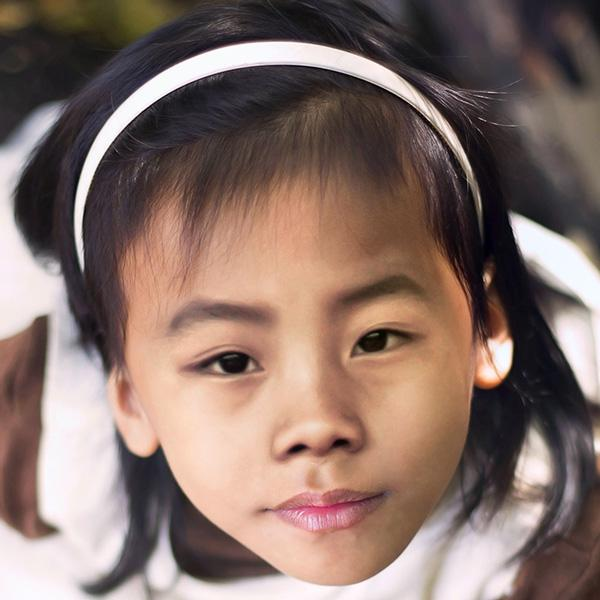Eyes: (175, 336, 274, 395), (339, 313, 423, 372)
